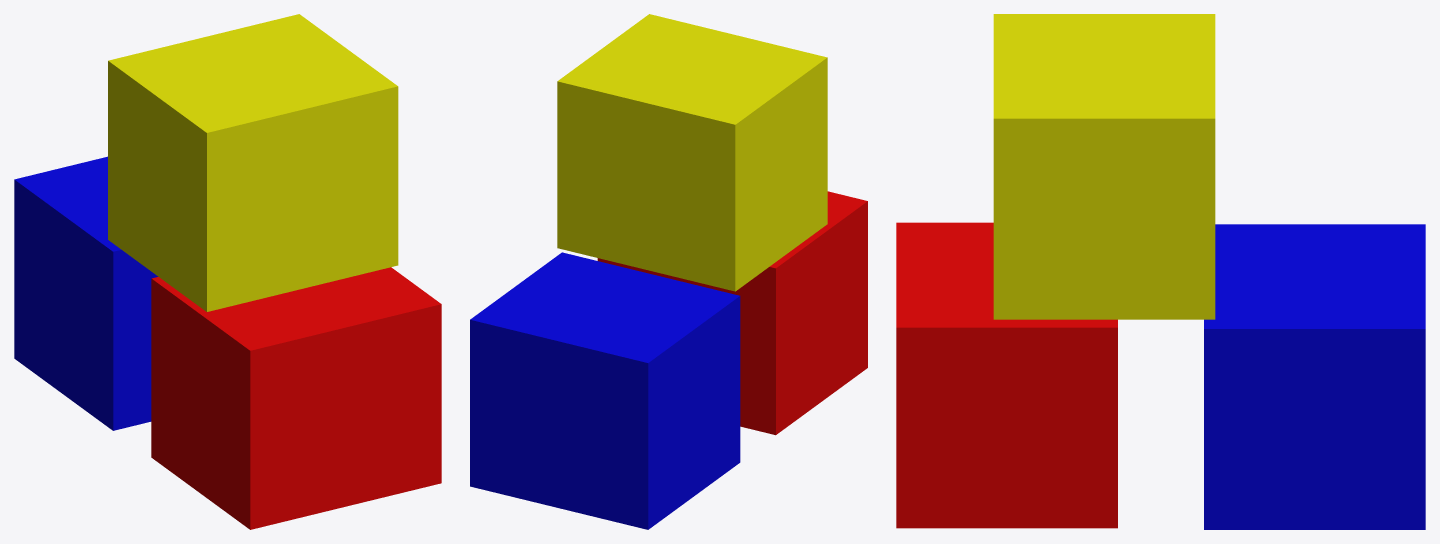
File: Toy blocks.fbx
3 renders of one model, left to right at view 1: azimuth 30°, elevation 25°; view 2: azimuth 150°, elevation 25°; view 3: azimuth 270°, elevation 25°, orthographic. The views are drawn at different scales.
Visible parts, largest first — view 1: pCube3; view 2: pCube3; view 3: pCube3.
Boxes of the visible parts, bbox=[...] form: pCube3: bbox=[14, 14, 441, 529]; pCube3: bbox=[470, 14, 867, 529]; pCube3: bbox=[896, 14, 1425, 529].
Size of the model in its own units: 0.4446 by 0.8139 by 0.9498.
